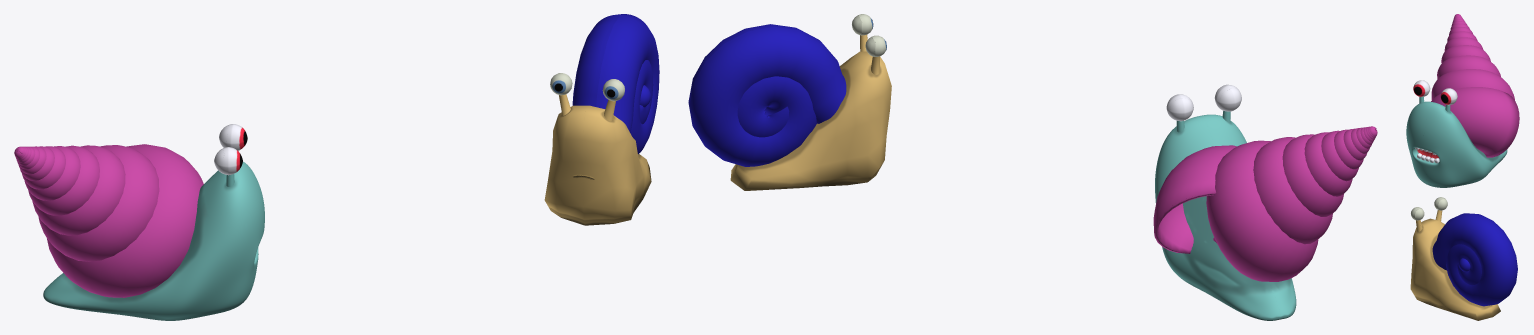
The model's file is Right+Left_Snails.gltf.
3 renders of one model, left to right at view 1: azimuth 30°, elevation 25°; view 2: azimuth 150°, elevation 25°; view 3: azimuth 270°, elevation 25°, orthographic. The views are drawn at different scales.
Visible parts, largest first — view 1: Circle, Roundcube.001, Body, Shell, Roundcube.024, Eye; view 2: Circle, Shell, Body, Roundcube.001, Roundcube.024, Eye; view 3: Circle, Shell, Roundcube.001, Body, Roundcube.024, Eye, EyeStick, CenterShell.
Part boxes in pixels (x1,y1,x2,y2): Circle: [14, 144, 203, 297]; Roundcube.001: [43, 161, 264, 320]; Body: [544, 105, 651, 225]; Shell: [572, 14, 659, 154]; Roundcube.024: [214, 124, 247, 175]; Eye: [550, 73, 624, 101]; Circle: [1153, 126, 1377, 281]; Shell: [688, 24, 846, 166]; Body: [730, 51, 891, 190]; Roundcube.001: [1155, 114, 1296, 320]; Roundcube.024: [1166, 84, 1241, 121]; Eye: [852, 14, 886, 56]; Circle: [1431, 14, 1519, 157]; Shell: [1432, 213, 1517, 306]; Roundcube.001: [1406, 101, 1507, 187]; Body: [1410, 218, 1500, 320]; Roundcube.024: [1413, 80, 1457, 105]; Eye: [1411, 197, 1447, 220]; EyeStick: [1416, 210, 1442, 231]; CenterShell: [1459, 258, 1470, 271].
Bounding box in the file's own units: 14.75 × 4.01 × 3.53.
Materials: 3 (3 with a texture image).
